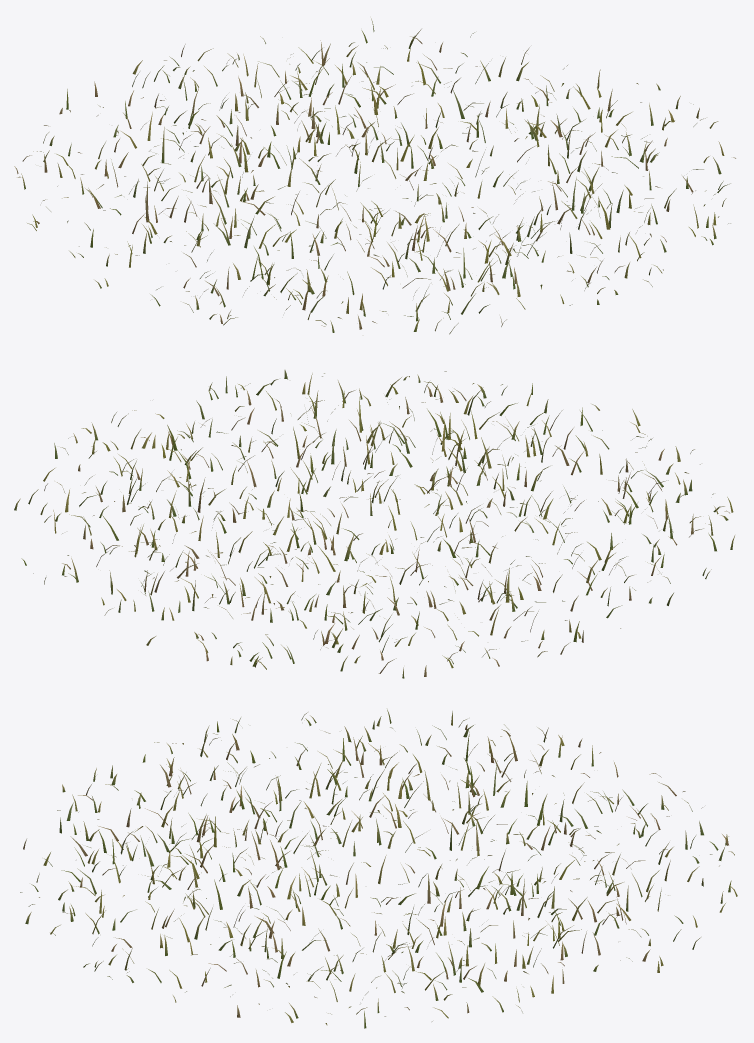
The model's file is carpet_far_moor.glb.
3 views of the same model, one above another, from view 1: azimuth 30°, elevation 25°; view 2: azimuth 150°, elevation 25°; view 3: azimuth 270°, elevation 25° (orthographic).
Visible parts, largest first — view 1: carpet_far_moor; view 2: carpet_far_moor; view 3: carpet_far_moor.
Part boxes in pixels (box(x1,y1,x2,y2)): carpet_far_moor: box(14, 18, 735, 334); carpet_far_moor: box(14, 370, 734, 678); carpet_far_moor: box(20, 709, 737, 1028).
Bounding box in the file's own units: 3.99 × 0.1939 × 3.93.
